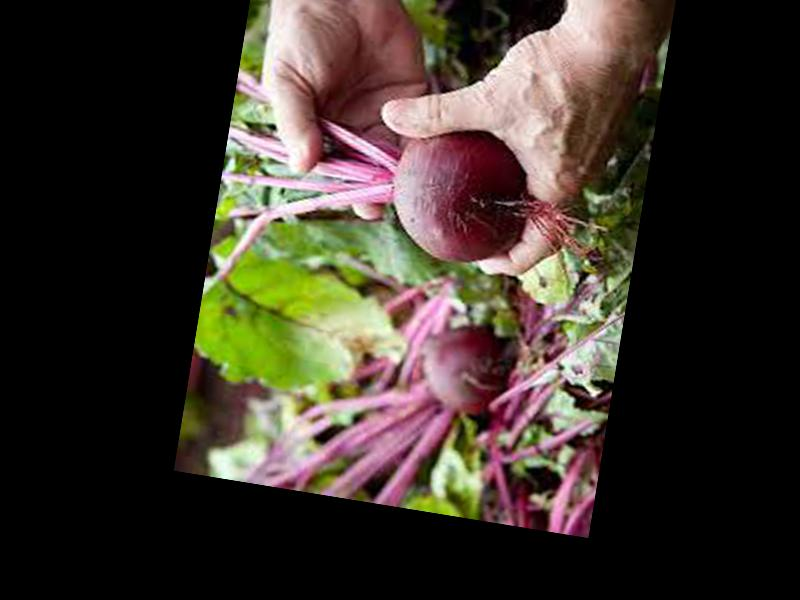Beet: (204, 88, 539, 344)
